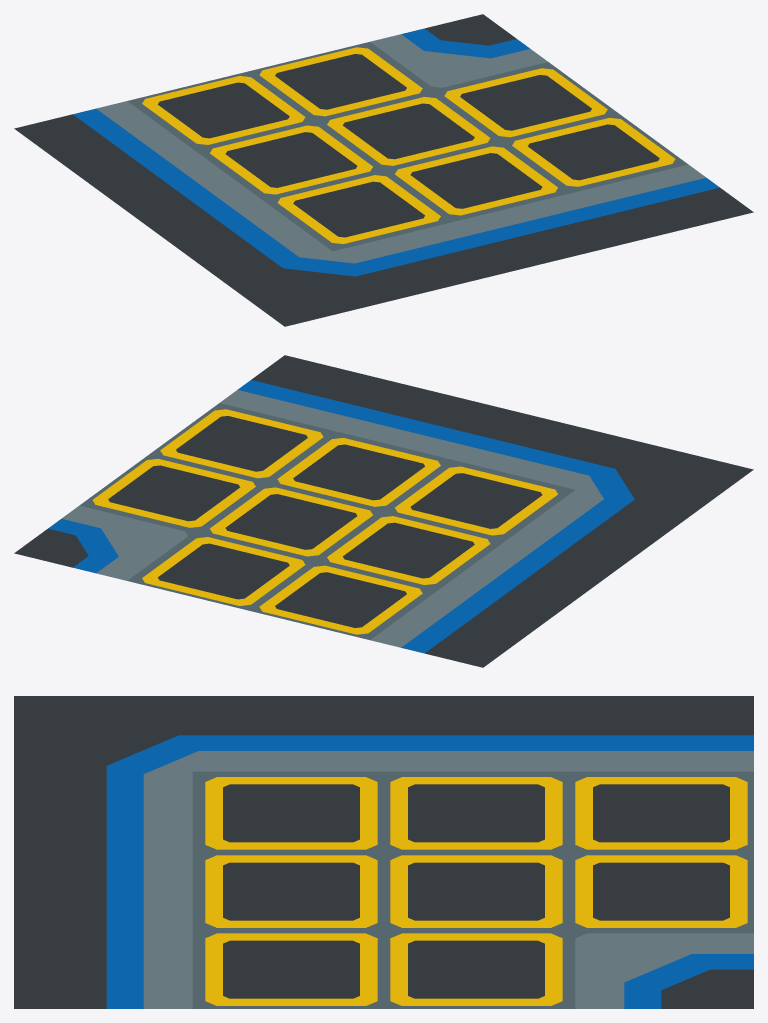
File: Floor_type_C_005.fbx
The picture shows the model from 3 angles, top to bottom: view 1: azimuth 30°, elevation 25°; view 2: azimuth 150°, elevation 25°; view 3: azimuth 270°, elevation 25°; orthographic projection. The views are drawn at different scales.
Parts seen in each view (by area): view 1: Floor_type_C_005; view 2: Floor_type_C_005; view 3: Floor_type_C_005.
Part boxes in pixels (left/top/right/bottom): Floor_type_C_005: left=14, top=14, right=753, bottom=326; Floor_type_C_005: left=14, top=355, right=753, bottom=667; Floor_type_C_005: left=14, top=696, right=753, bottom=1008.
Bounding box in the file's own units: 400 × 400 × 1.35e-21.
